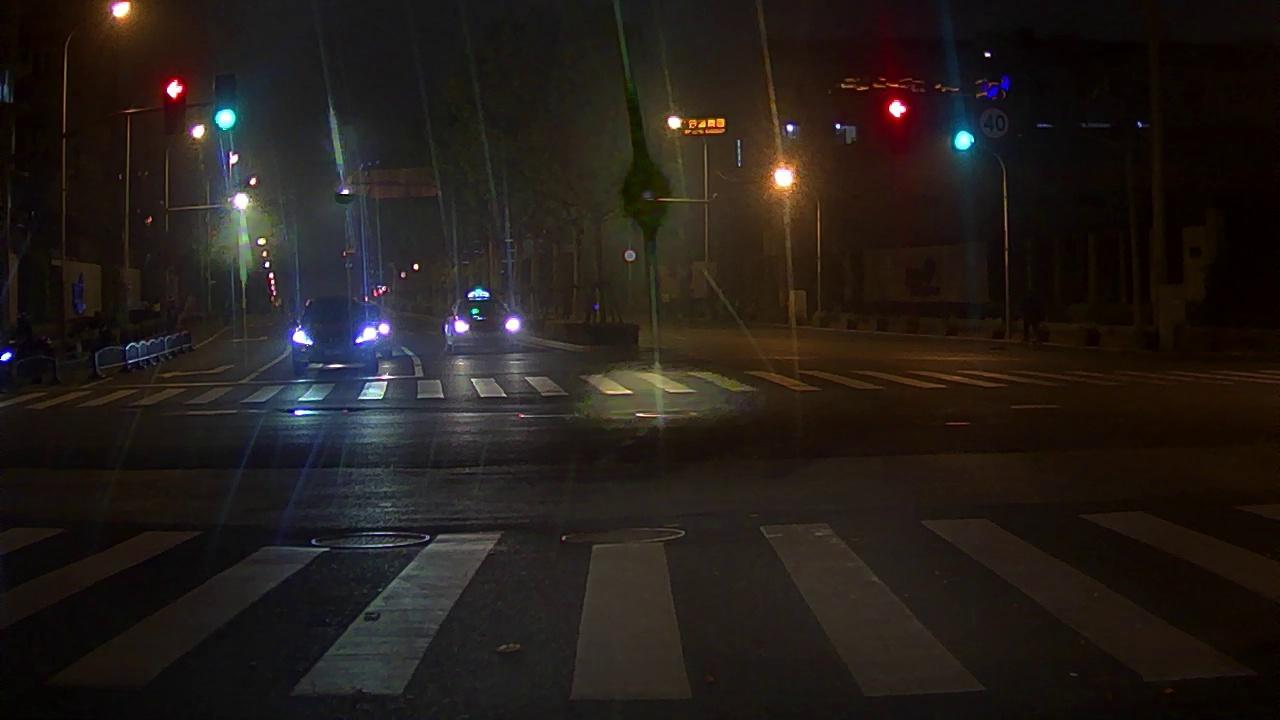traffic_light: (212, 76, 235, 131), (166, 77, 185, 131), (955, 130, 973, 151), (891, 97, 907, 118)
